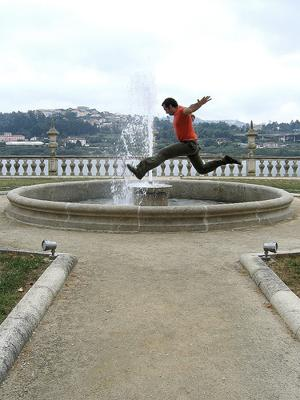person: (127, 97, 243, 178)
